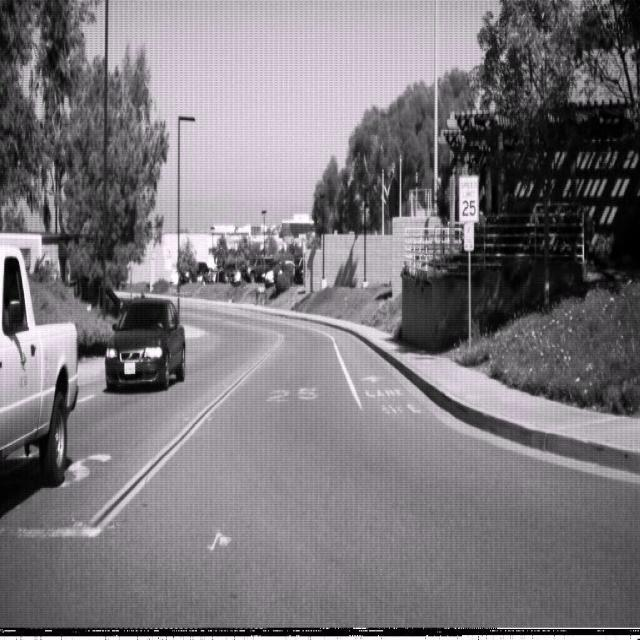speedLimit25: (459, 174, 478, 222)
